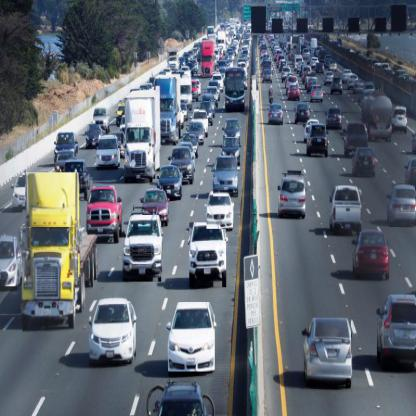bus: (227, 69, 246, 110)
car: (169, 303, 216, 373), (306, 319, 353, 386), (91, 302, 138, 362), (124, 216, 163, 284), (379, 296, 416, 365), (190, 224, 228, 290), (89, 191, 124, 246), (353, 232, 391, 281), (157, 383, 204, 416), (331, 186, 363, 234), (390, 184, 416, 229), (279, 178, 307, 219), (207, 190, 235, 231), (1, 234, 22, 288), (214, 158, 239, 199), (174, 149, 197, 182), (353, 147, 376, 179), (97, 138, 120, 168), (347, 121, 370, 149), (161, 170, 184, 198), (145, 192, 170, 217), (309, 126, 326, 158), (57, 134, 80, 156), (13, 178, 27, 208), (394, 106, 408, 135), (328, 106, 343, 132), (94, 108, 110, 131), (297, 103, 312, 126), (223, 139, 240, 159), (223, 121, 242, 138), (190, 123, 206, 141), (88, 125, 100, 148), (270, 107, 284, 126), (194, 110, 208, 127), (331, 78, 343, 94), (288, 85, 298, 102), (311, 87, 323, 101), (207, 87, 219, 101), (185, 135, 199, 146), (355, 82, 365, 97), (200, 103, 213, 114), (303, 66, 313, 77), (263, 71, 273, 81), (295, 56, 304, 67), (349, 74, 357, 86), (289, 77, 298, 87), (317, 64, 326, 74), (326, 73, 334, 83), (343, 70, 350, 80), (283, 68, 290, 77), (331, 62, 336, 72)
container: (23, 174, 94, 335), (124, 93, 162, 181), (156, 80, 182, 147), (203, 41, 214, 79)
motorbike: (269, 84, 274, 105)
truck: (361, 94, 392, 142), (181, 74, 193, 112)
